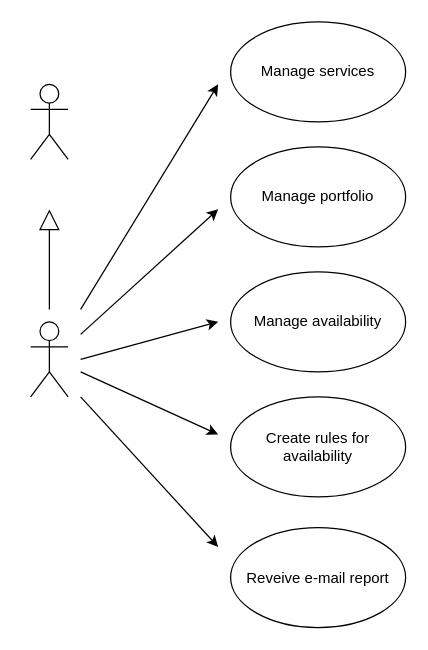
Some shapes in this 428 by 650 pixel diagram are drawn without their labels. The shapes that lost their labels are listed below. From the top down, each one's centre as x and y in pixels, then its label:
At (x=48, y=121): "User".
At (x=48, y=359): "Provider".
